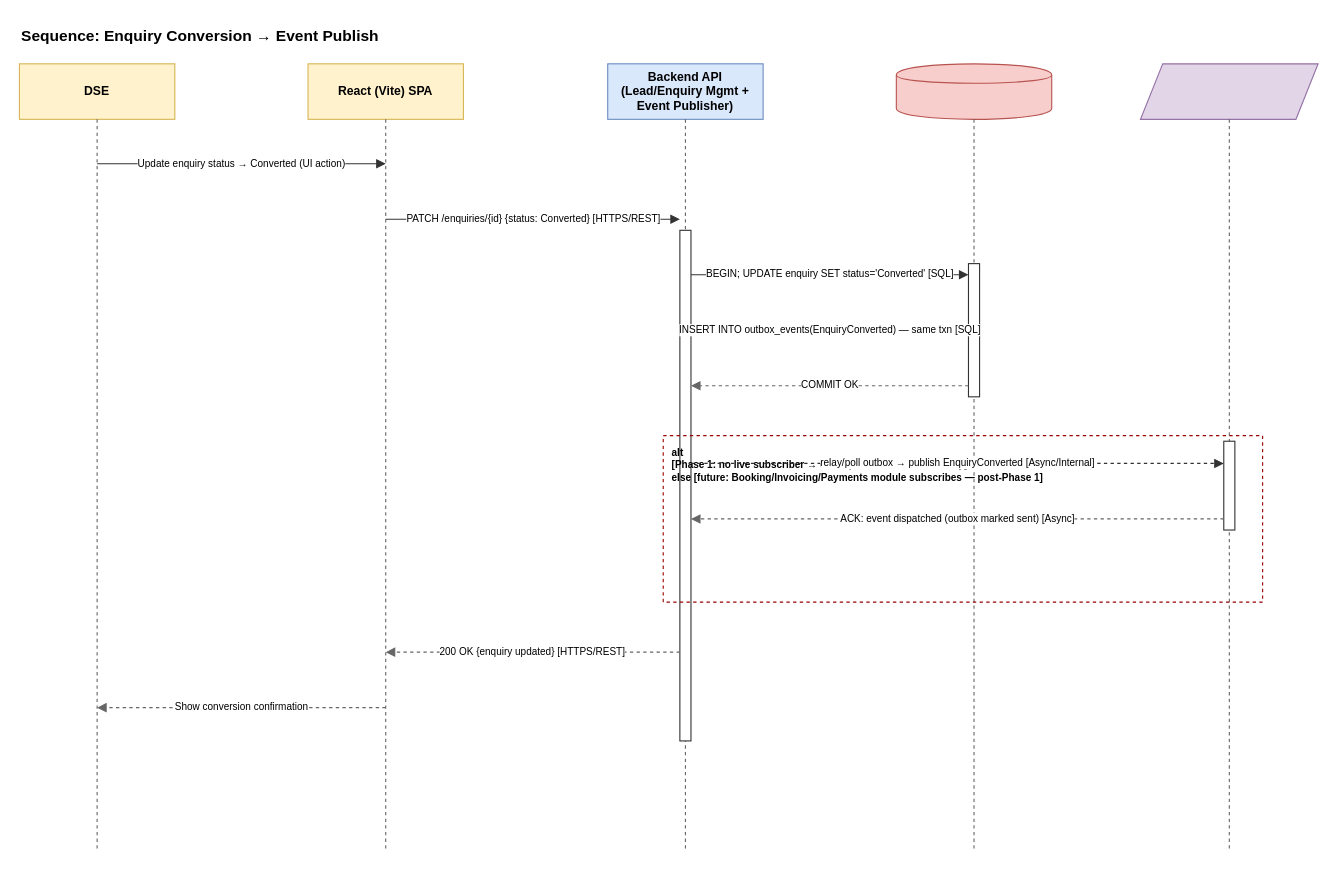
This 1338x872 diagram has some shape labels left out. Here are the shapes that lost their labels. From the top down, the centre of each, then its label:
point (973, 91): PostgreSQL Database
point (1228, 91): Event/Webhook Dispatcher
